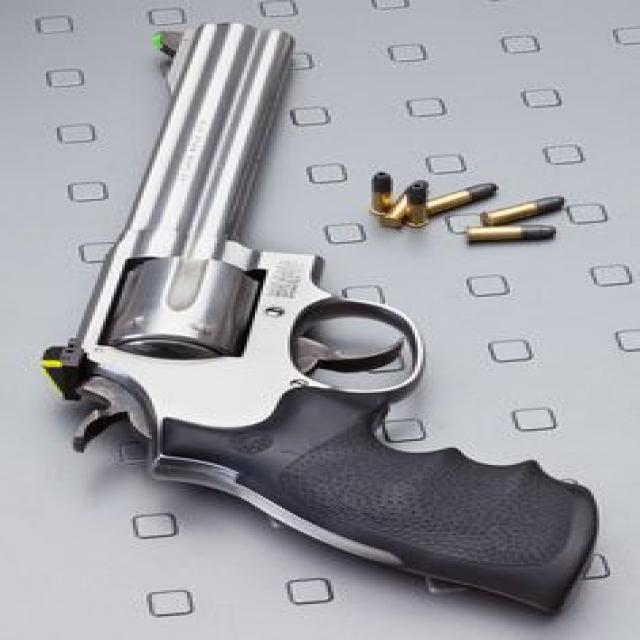revolver: (21, 8, 620, 627)
